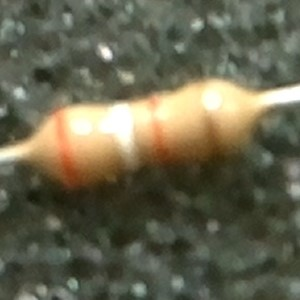gold_band: (197, 78, 231, 164)
orange_band: (50, 106, 84, 194), (143, 92, 175, 169)
white_band: (107, 99, 143, 179)
